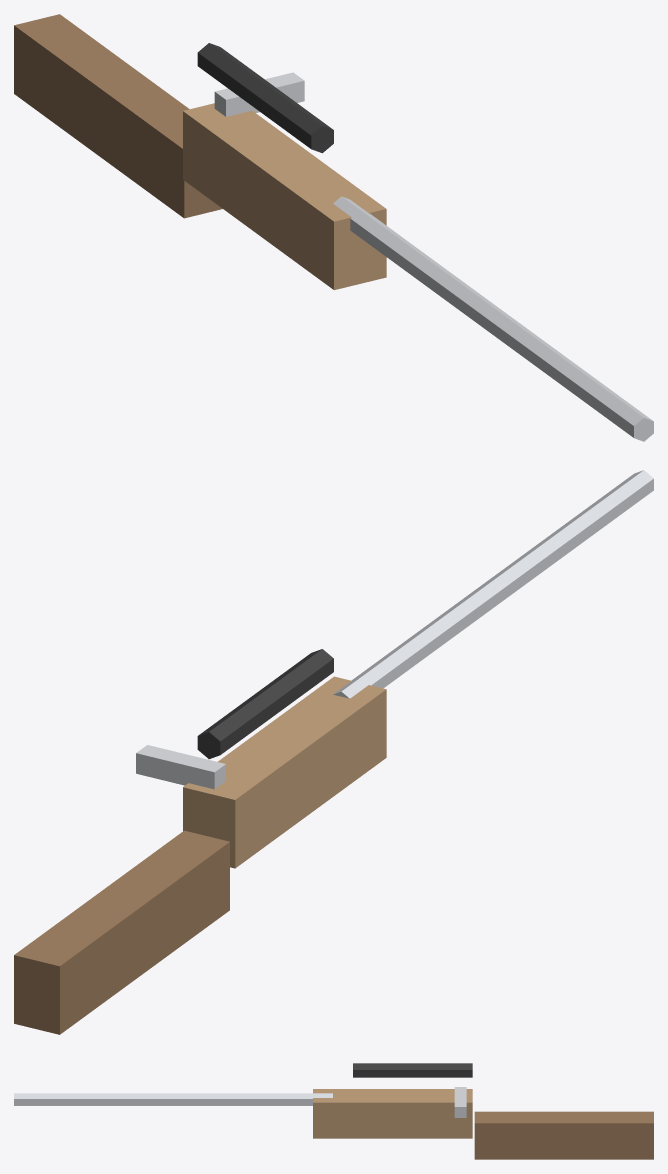
The model's file is Longrifle.fbx.
3 renders of one model, top to bottom at view 1: azimuth 30°, elevation 25°; view 2: azimuth 150°, elevation 25°; view 3: azimuth 270°, elevation 25°, orthographic. The views are drawn at different scales.
Visible parts, largest first — view 1: Body; view 2: Body; view 3: Body.
Part boxes in pixels (box(x1,y1,x2,y2)): Body: box(14, 14, 653, 441); Body: box(14, 470, 653, 1034); Body: box(14, 1063, 653, 1159).
Bounding box in the file's own units: 0.16 × 0.25 × 1.61.
